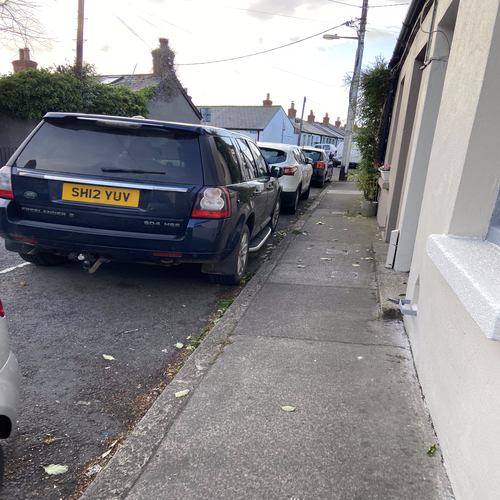Car: (6, 107, 274, 273), (261, 136, 312, 218)
